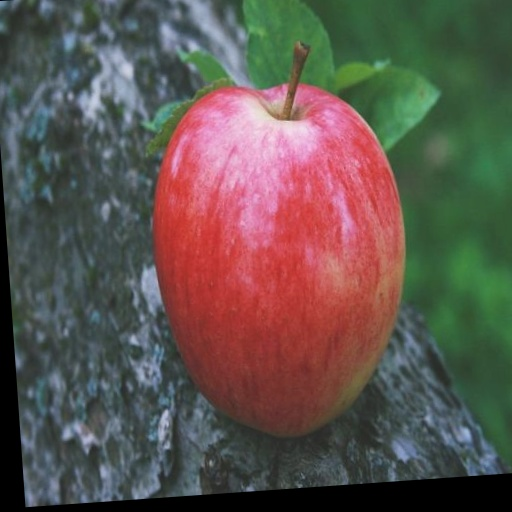fruit: (153, 78, 405, 437)
